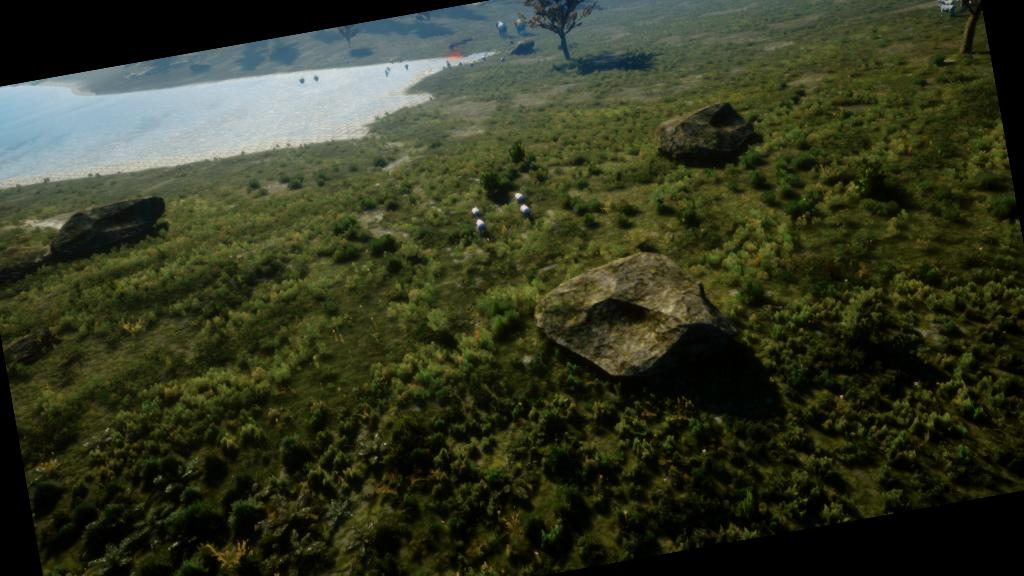pig: (506, 184, 536, 207), (464, 196, 491, 218), (515, 197, 538, 220), (472, 213, 490, 238)
